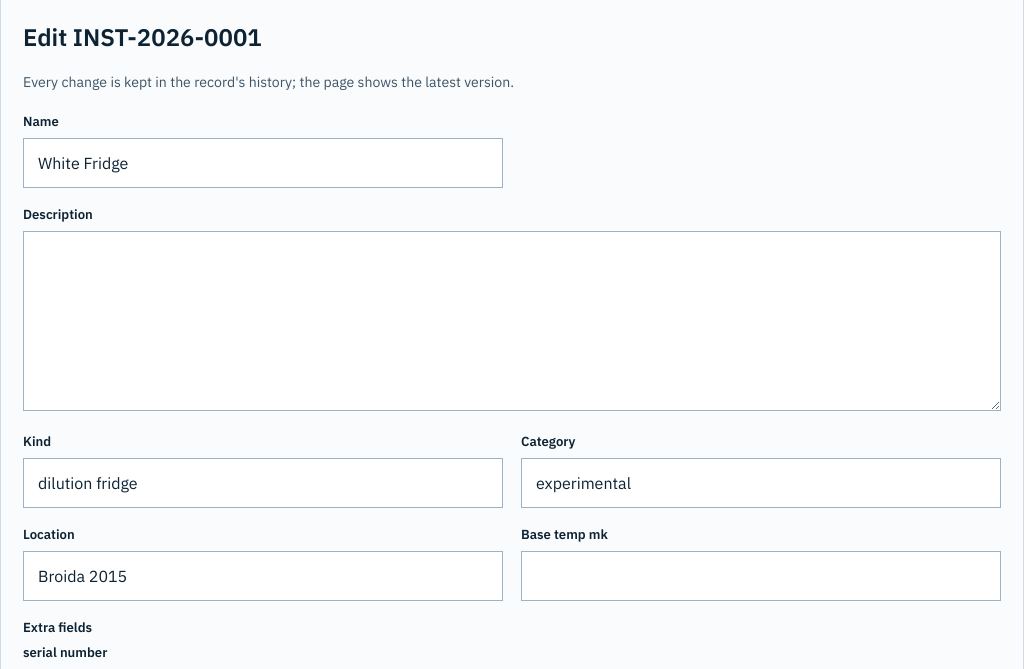
it: EntityEditor › explains a stale-version conflict instead of overwriting
Replace the text in the field labelled "Name" with "Black Fridge": coordinates (263, 163) [23,138,503,188]
(page scrolled)
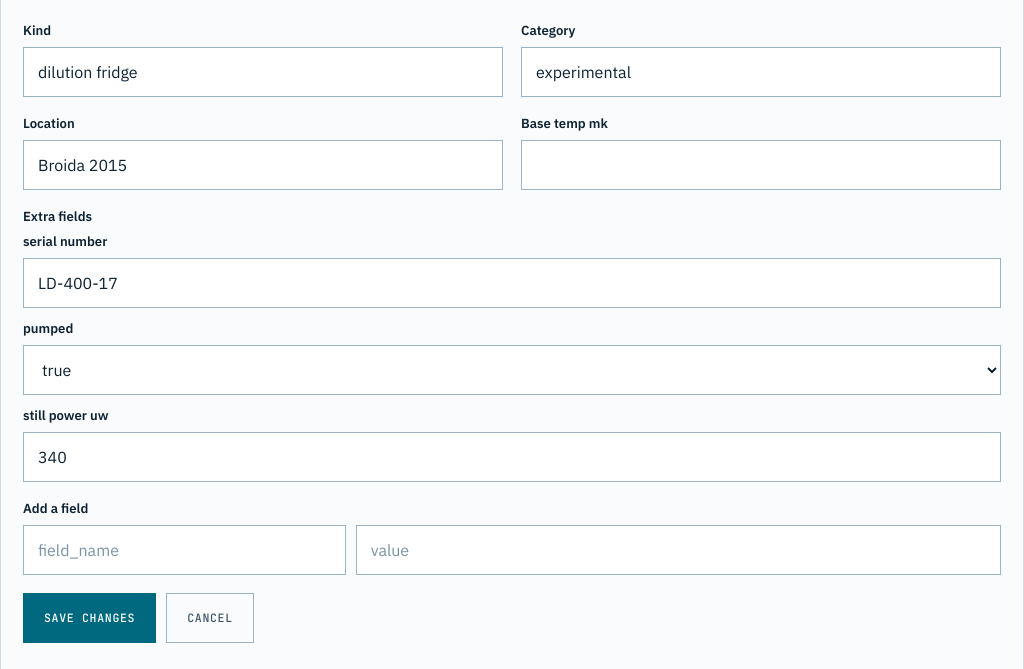
Click the button "Save changes": coordinates (90, 618) [23,593,156,643]
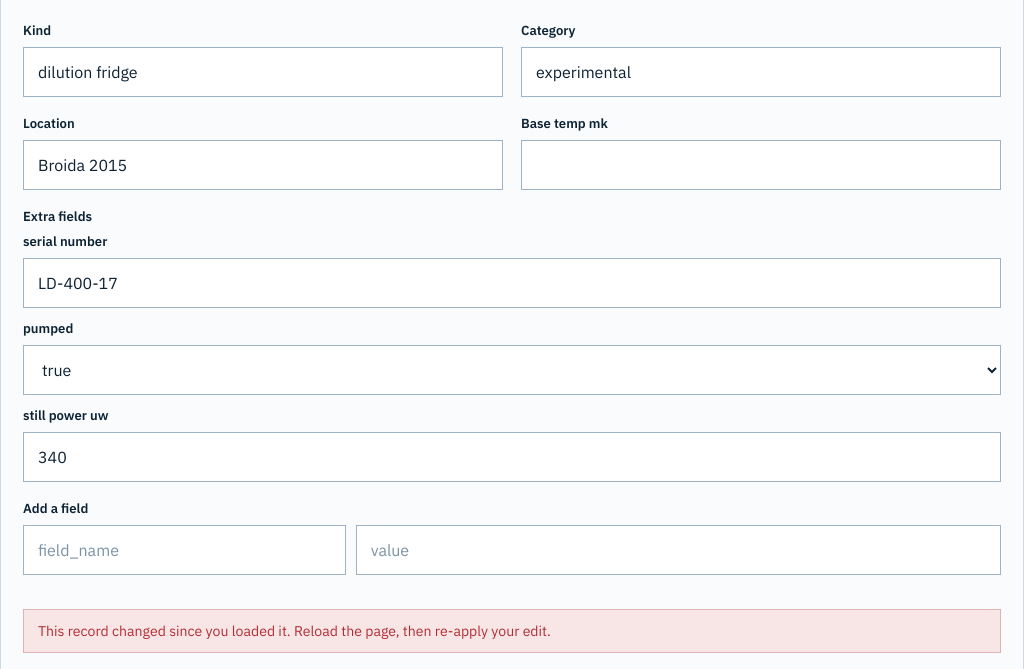
Check: the text "changed since you loaded it" is shown, box [38,622,551,640]
